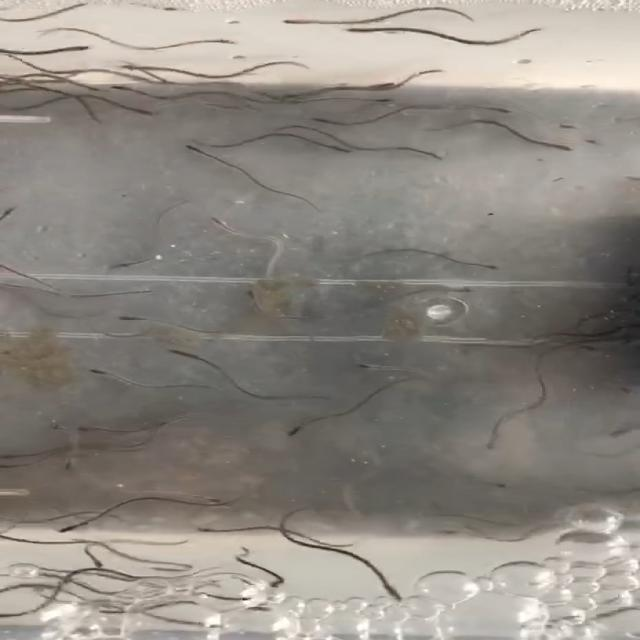active_glass_eel: (378, 586, 419, 608), (189, 518, 223, 542), (340, 357, 380, 377), (306, 110, 348, 127), (274, 423, 311, 442), (280, 14, 322, 30), (126, 106, 164, 123), (546, 139, 579, 158), (75, 421, 109, 439), (448, 284, 491, 298), (94, 314, 154, 324), (40, 519, 77, 535), (476, 257, 504, 278), (338, 24, 390, 35), (204, 211, 234, 230), (98, 84, 135, 98), (198, 497, 236, 510), (274, 90, 308, 104), (49, 44, 96, 54), (98, 263, 145, 273), (78, 558, 117, 570), (154, 348, 194, 359), (483, 437, 512, 452), (486, 104, 517, 118), (420, 148, 444, 165), (328, 144, 357, 158), (182, 141, 211, 155), (262, 574, 286, 590), (34, 424, 72, 434), (130, 288, 161, 300), (242, 289, 266, 304), (361, 80, 393, 91), (53, 462, 81, 473), (118, 63, 152, 72), (0, 205, 18, 220), (372, 101, 403, 109), (567, 344, 602, 351)
